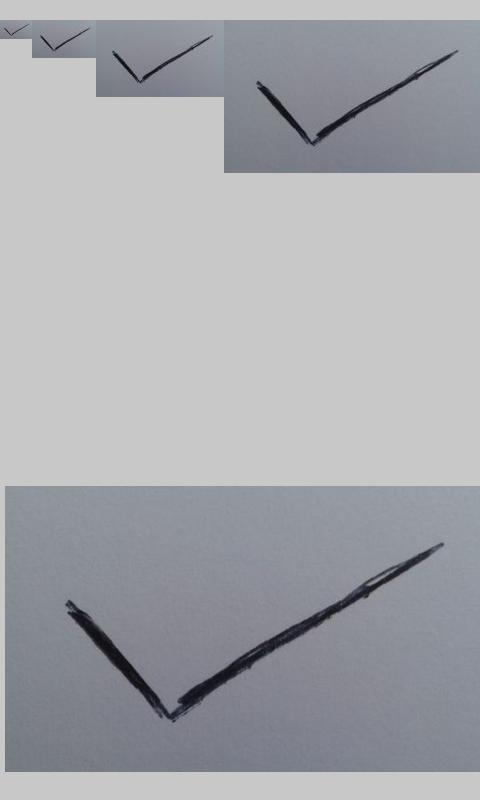check_box: (67, 544, 440, 723), (257, 51, 457, 145), (112, 35, 211, 83), (40, 28, 88, 51), (4, 24, 28, 36)
